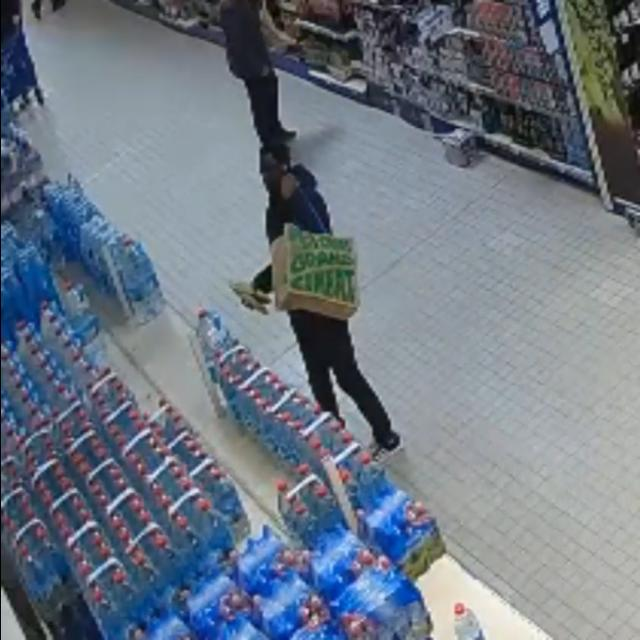article: (228, 284, 272, 316)
bags: (272, 224, 359, 319)
hands: (281, 174, 297, 199), (261, 65, 273, 77)
person: (289, 310, 401, 461), (220, 0, 295, 146)
